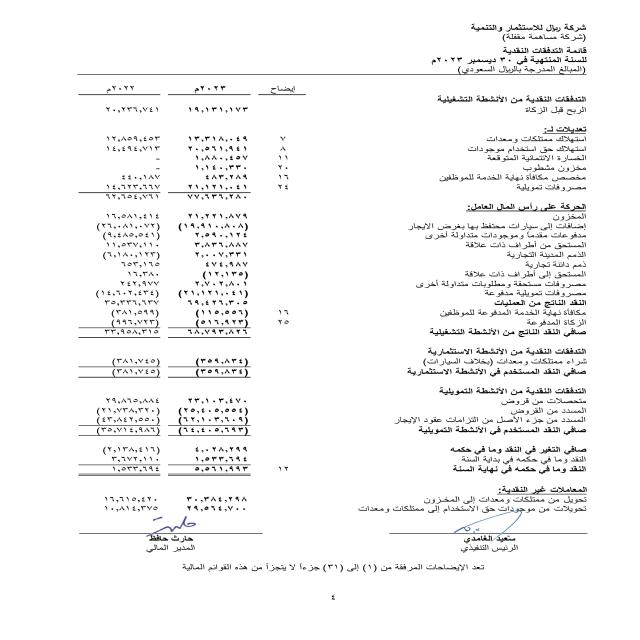financial_sheets: (503, 45, 592, 55)
table: (8, 74, 300, 548)
